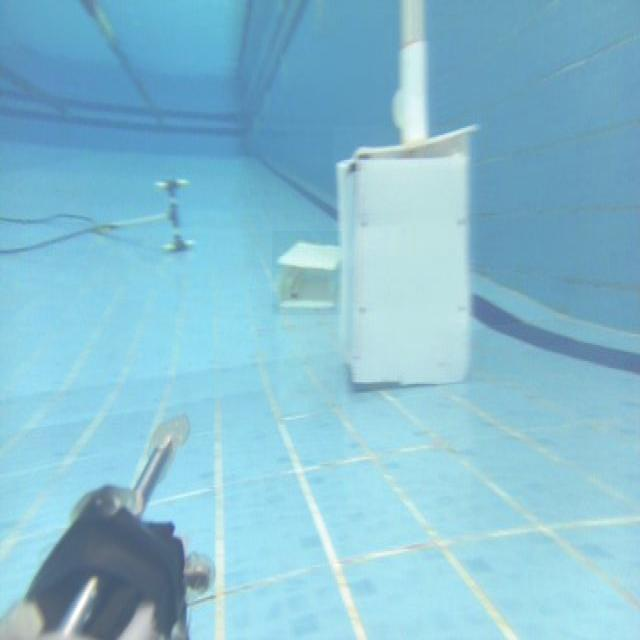Cube: (333, 126, 476, 390)
Cuboid: (272, 231, 342, 315)
